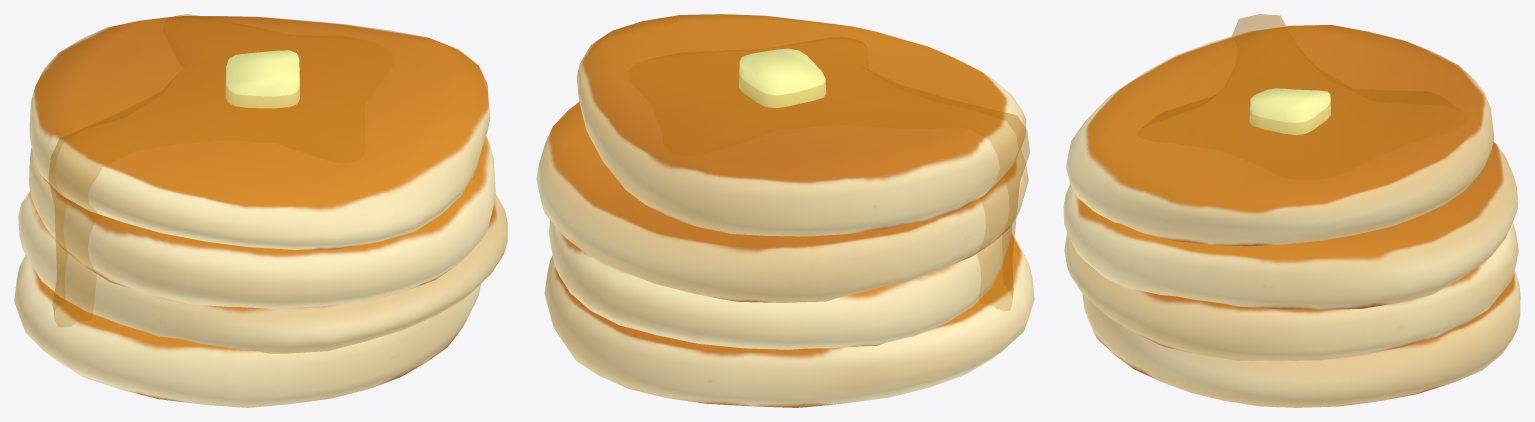
File: pancakes.glb
3 renders of one model, left to right at view 1: azimuth 30°, elevation 25°; view 2: azimuth 150°, elevation 25°; view 3: azimuth 270°, elevation 25°, orthographic. The views are drawn at different scales.
Parts seen in each view (by area): view 1: Pancake003_Pancake_0, Plane002_03 - Default_0, Pancake002_Pancake_0, Pancake_Pancake_0, Pancake001_Pancake_0, Butter_Butter_0; view 2: Pancake003_Pancake_0, Pancake002_Pancake_0, Pancake_Pancake_0, Plane002_03 - Default_0, Pancake001_Pancake_0, Butter_Butter_0; view 3: Pancake003_Pancake_0, Pancake002_Pancake_0, Plane002_03 - Default_0, Pancake001_Pancake_0, Pancake_Pancake_0, Butter_Butter_0.
Boxes of the visible parts, left/top/right/bottom form: Pancake003_Pancake_0: left=29, top=16, right=490, bottom=249; Plane002_03 - Default_0: left=48, top=14, right=393, bottom=327; Pancake002_Pancake_0: left=29, top=136, right=495, bottom=308; Pancake_Pancake_0: left=14, top=255, right=480, bottom=407; Pancake001_Pancake_0: left=18, top=191, right=507, bottom=353; Butter_Butter_0: left=225, top=50, right=299, bottom=108; Pancake003_Pancake_0: left=576, top=14, right=1026, bottom=236; Pancake002_Pancake_0: left=536, top=101, right=1028, bottom=302; Pancake_Pancake_0: left=544, top=232, right=1034, bottom=407; Plane002_03 - Default_0: left=628, top=37, right=1029, bottom=310; Pancake001_Pancake_0: left=549, top=220, right=1011, bottom=349; Butter_Butter_0: left=739, top=48, right=826, bottom=108; Pancake003_Pancake_0: left=1066, top=25, right=1494, bottom=246; Pancake002_Pancake_0: left=1063, top=141, right=1517, bottom=309; Plane002_03 - Default_0: left=1137, top=14, right=1467, bottom=179; Pancake001_Pancake_0: left=1064, top=222, right=1518, bottom=361; Pancake_Pancake_0: left=1082, top=270, right=1520, bottom=407; Butter_Butter_0: left=1249, top=88, right=1330, bottom=135.
Bounding box in the file's own units: 108 × 61.28 × 107.
4 materials, 2 textured.
